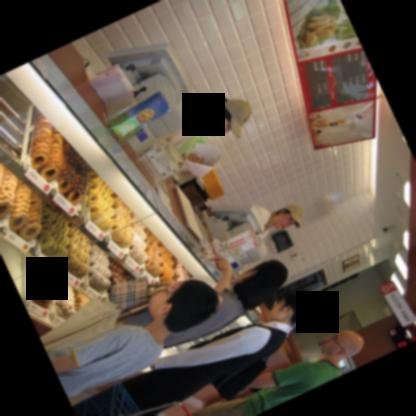handbag: (209, 355, 273, 402), (110, 275, 169, 315)
